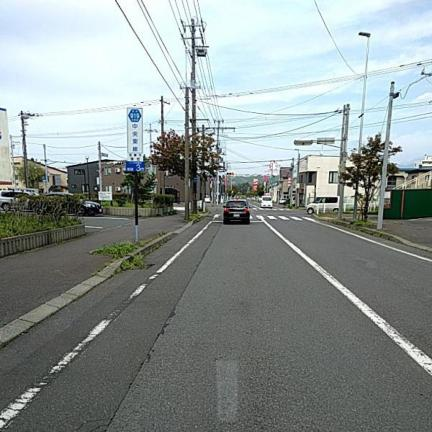Road: (0, 210, 431, 431)
